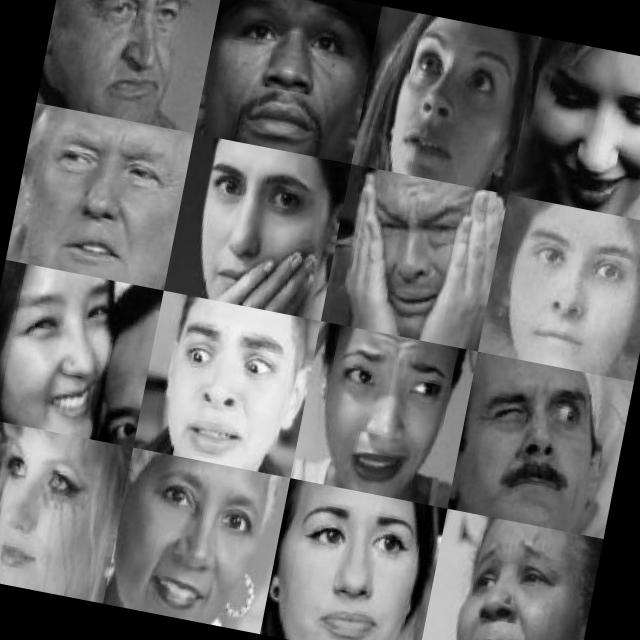angry: (62, 0, 201, 120)
fear: (165, 298, 306, 446), (382, 38, 508, 186)
happy: (468, 372, 631, 518), (0, 285, 143, 444), (528, 57, 640, 218)
neutral: (19, 116, 190, 286), (124, 472, 291, 624), (187, 154, 341, 318), (494, 205, 640, 362), (276, 501, 437, 640), (215, 0, 364, 150)
sad: (332, 176, 506, 345), (314, 340, 462, 495), (0, 432, 126, 590), (441, 533, 588, 640)
